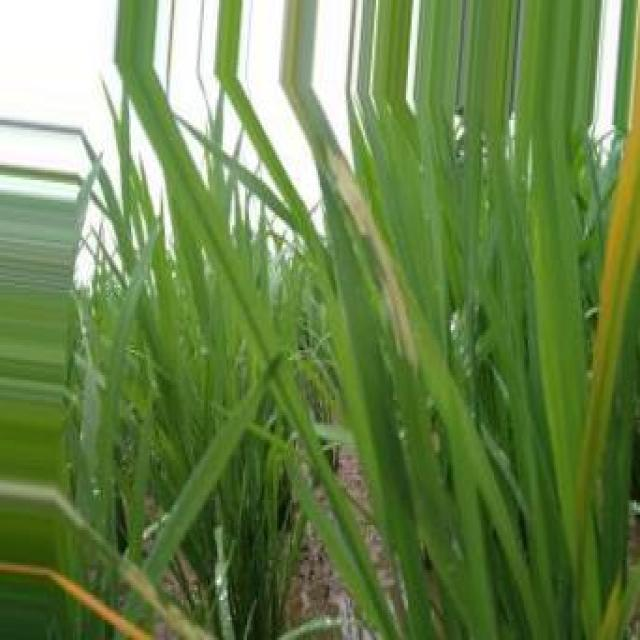Rice Tungro: (577, 27, 640, 527), (331, 157, 417, 367), (0, 564, 151, 639)
